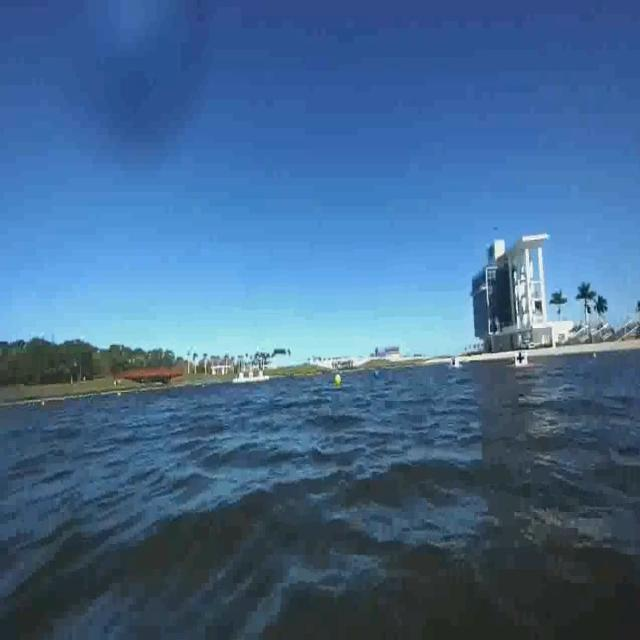yellow-buoy: (336, 374, 344, 388)
